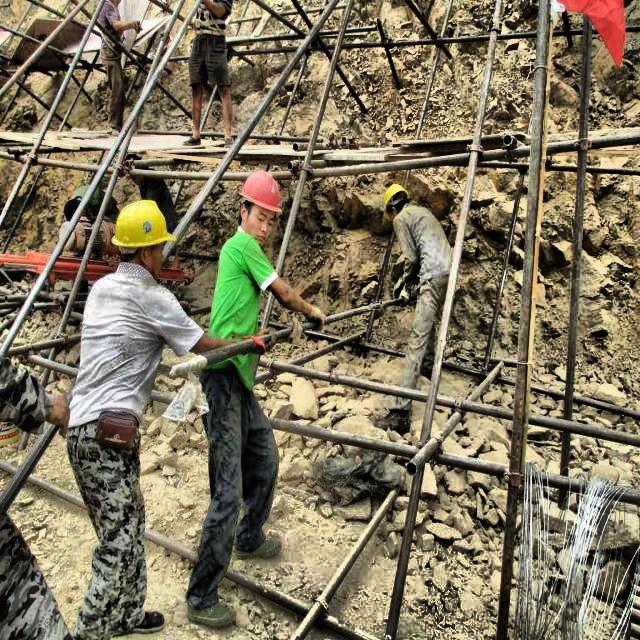person: (61, 189, 210, 640), (204, 172, 292, 628), (376, 173, 452, 384), (109, 202, 176, 250)
